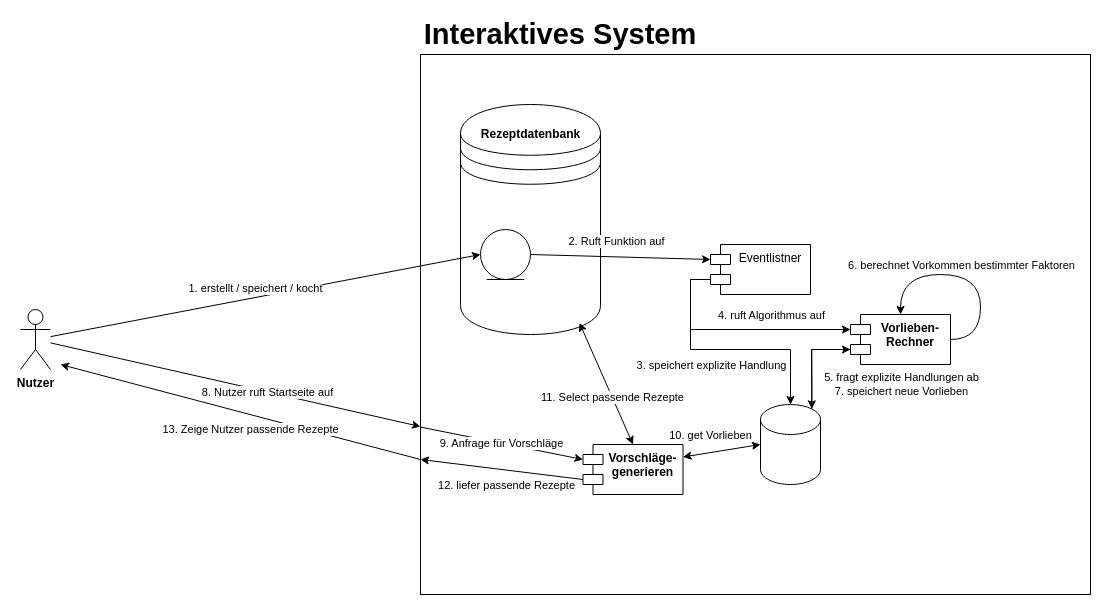
This 1108x612 diagram has some shape labels left out. The shapes that lost their labels are listed below. From the top down, each one's centre as x and y in pixels, then its label:
the point at 505,254: Rezept
the point at 790,444: Nutzer- Daten
